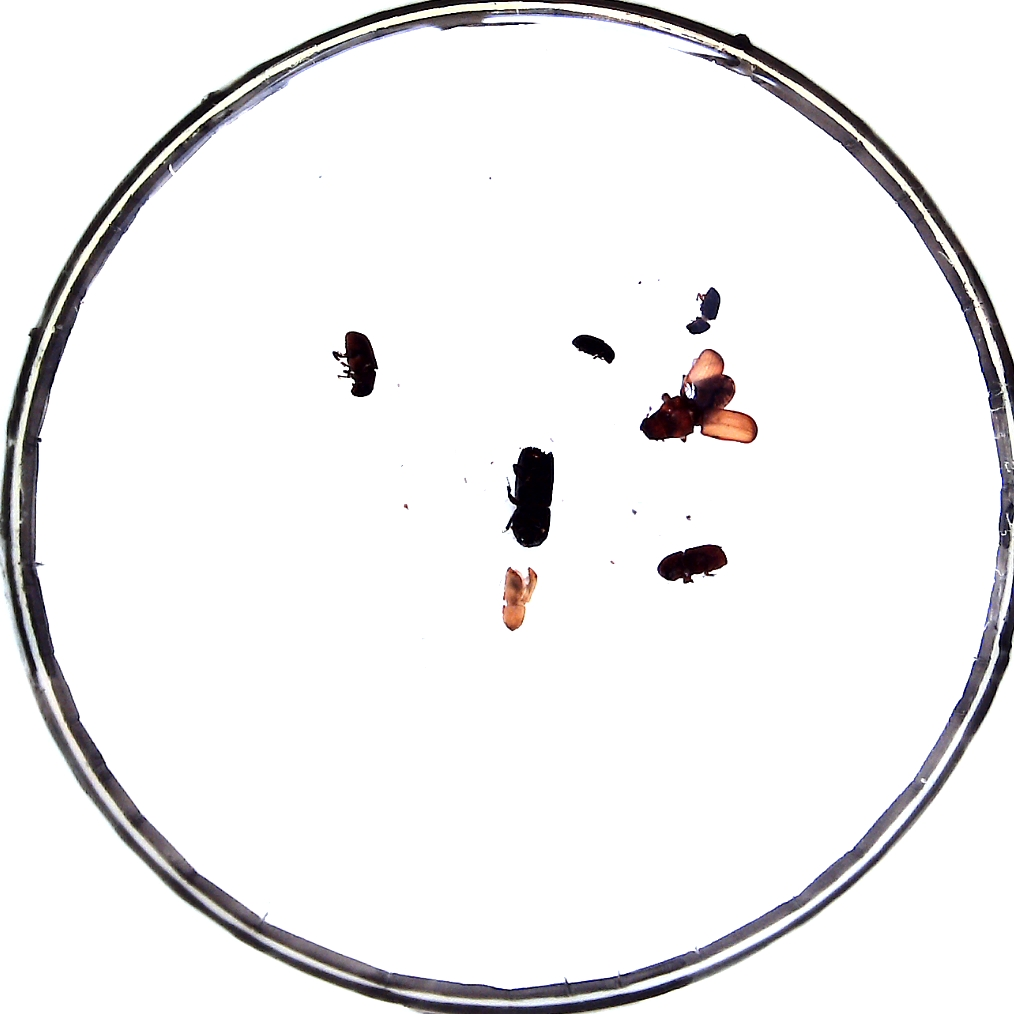Boerner: (513, 446, 554, 547)
Leconte: (640, 375, 736, 440)
acuminatus: (686, 286, 720, 335), (571, 334, 615, 363)
armandi: (343, 330, 377, 397)
coleoptera: (502, 566, 536, 631)
linnaeus: (657, 543, 728, 581)
